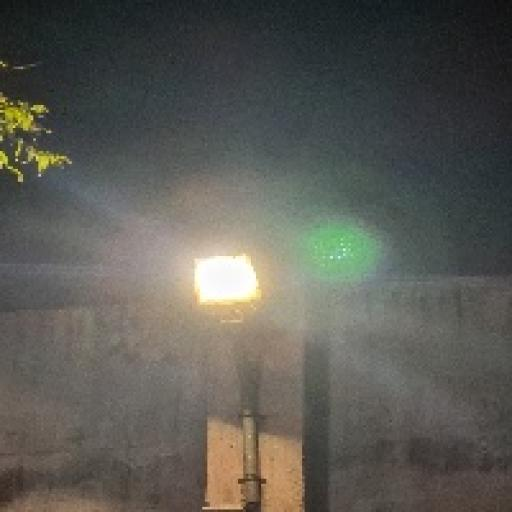Working: (181, 244, 275, 328)
